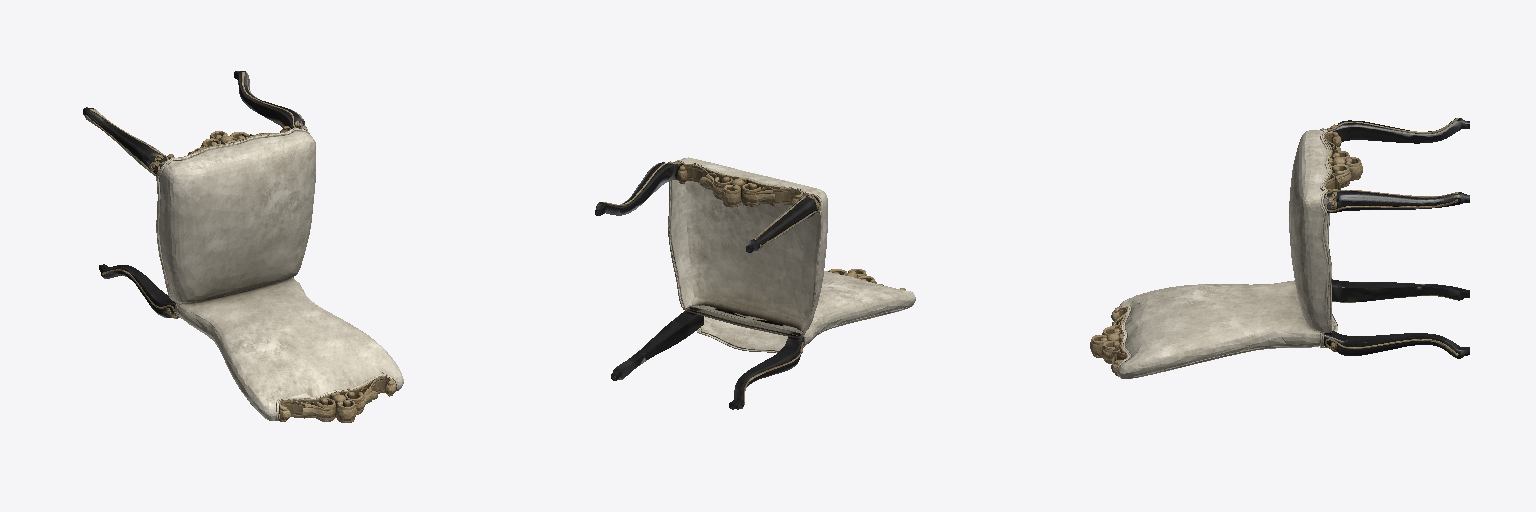
The picture shows the model from 3 angles: view 1: azimuth 30°, elevation 25°; view 2: azimuth 150°, elevation 25°; view 3: azimuth 270°, elevation 25°; orthographic projection.
Bounding box in the file's own units: 0.5022 × 0.5922 × 1.01.
1 materials, 1 textured.